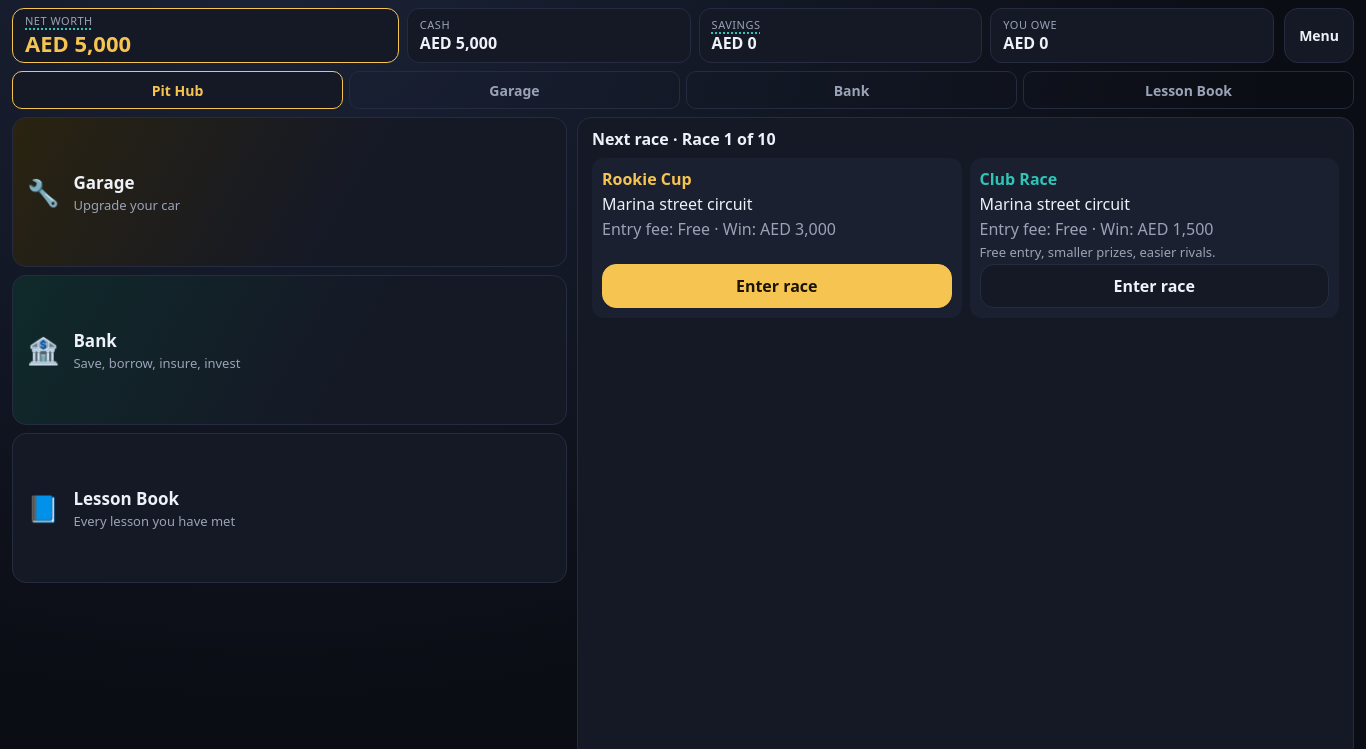
Scenario: Pit Hub ↔ engine › glossary words open a plain explanation
The width and height of the screenshot is (1366, 749).
Click the button with test id "tab-bank" at (852,90), box top-left (686, 71), bottom-right (1017, 109)
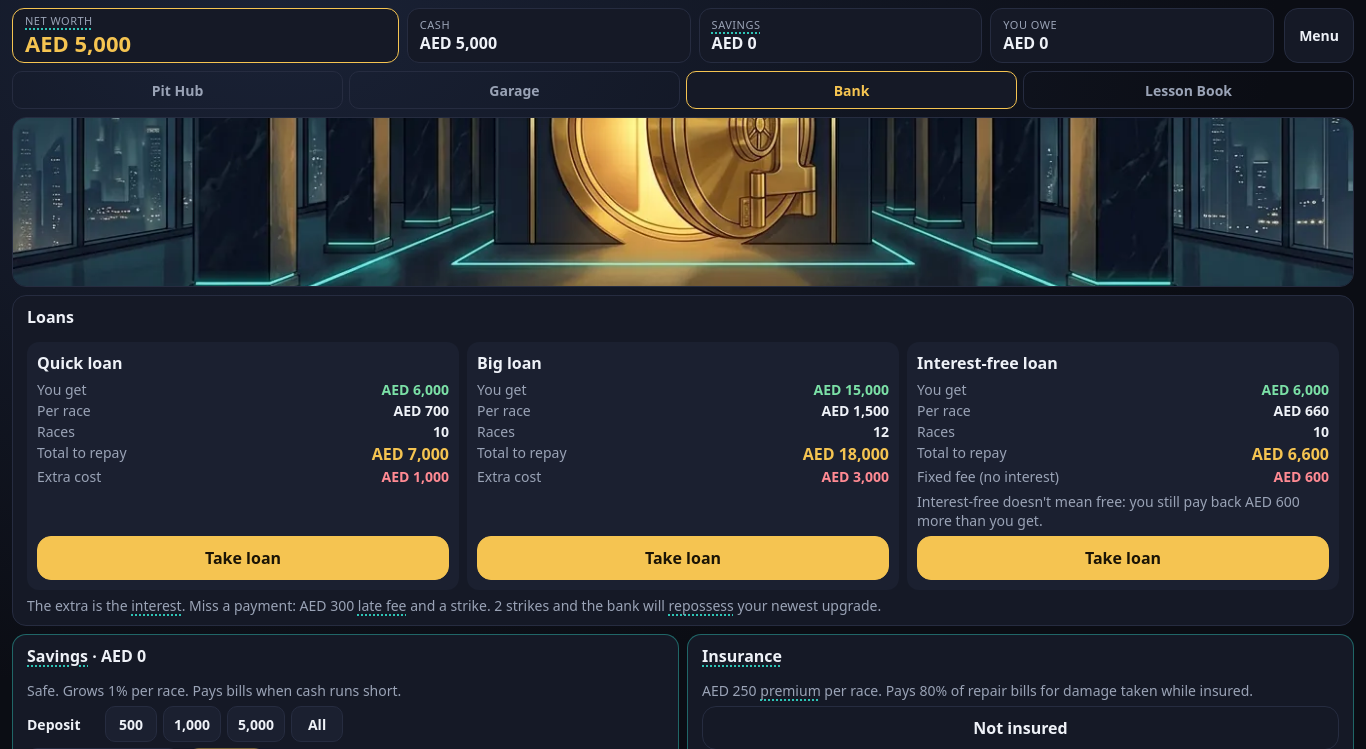
Click the button with test id "term-repossess" at (701,606), box top-left (669, 596), bottom-right (734, 615)
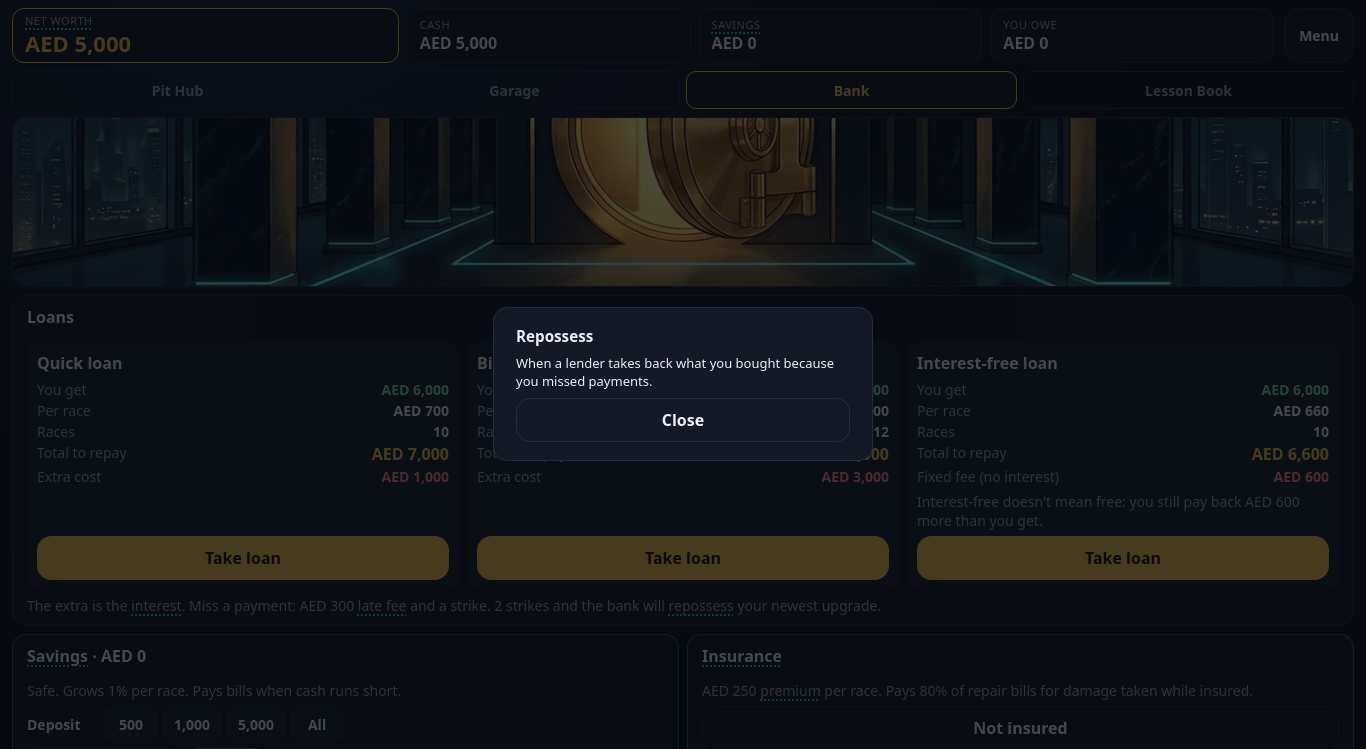
Expected: the text "takes back" is shown, top-left (516, 354), bottom-right (834, 390)
